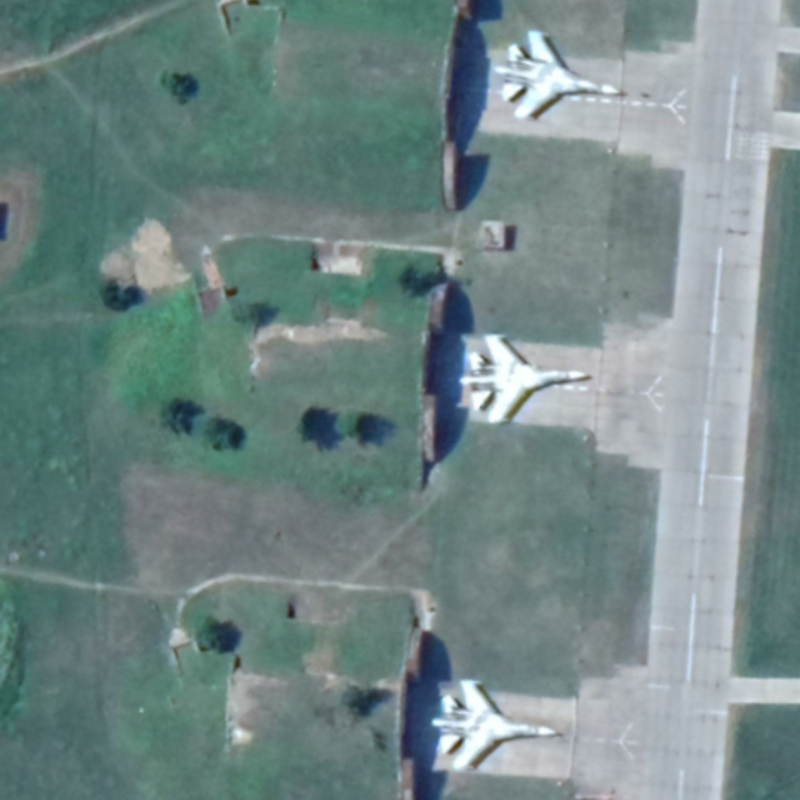A1: (429, 676, 561, 775), (456, 331, 590, 426), (490, 28, 623, 121)
